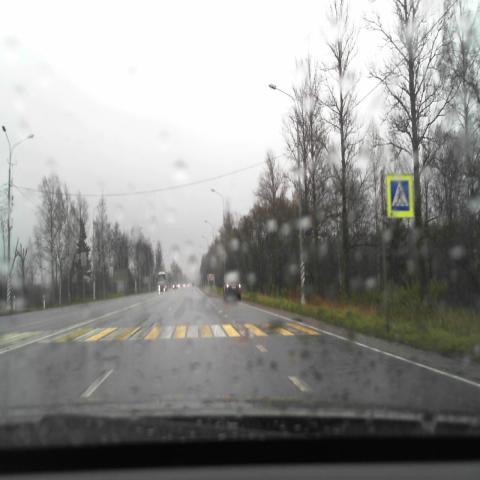5_19_1: (387, 175, 413, 218)
